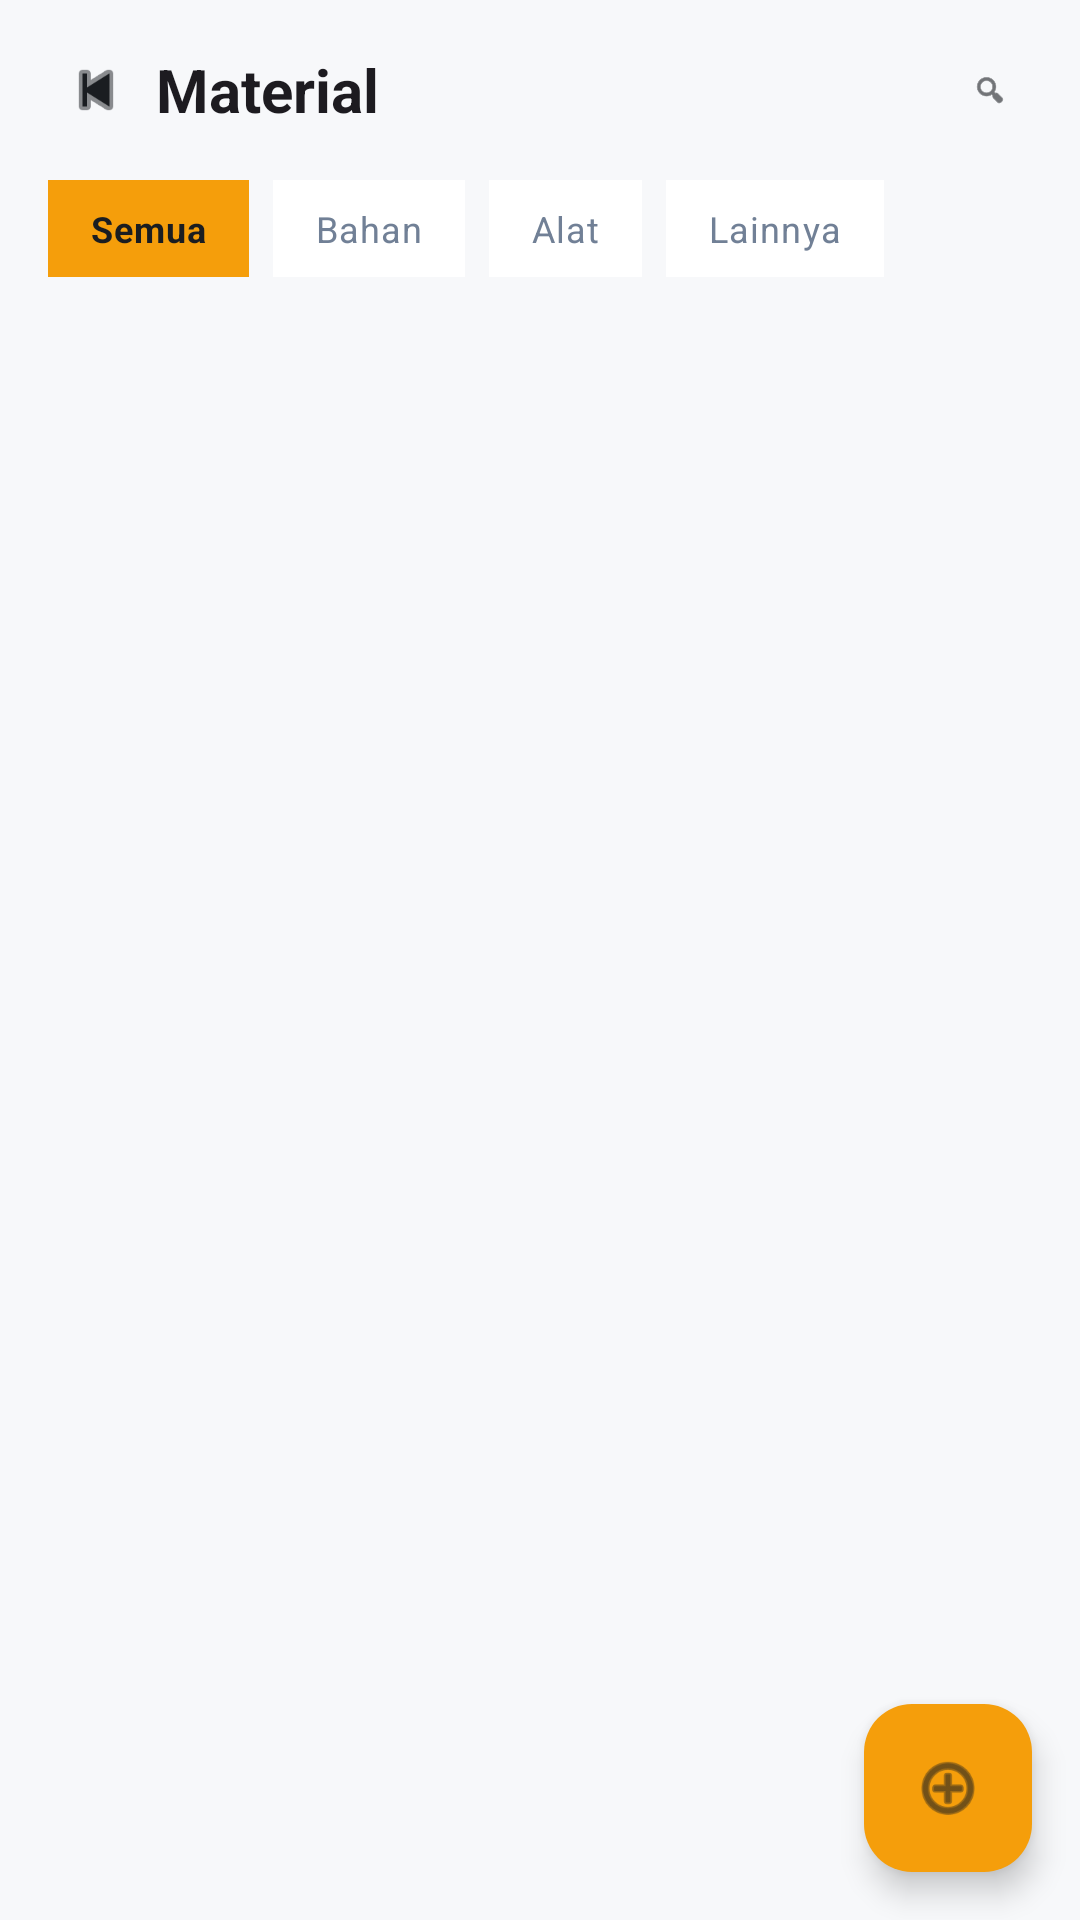

Icons on this 1080 × 1920 Android screen, each with its box as (x1, y1, x2, y2):
Cari: (977, 77, 1003, 104)
Tambah Material: (864, 1704, 1032, 1872)
